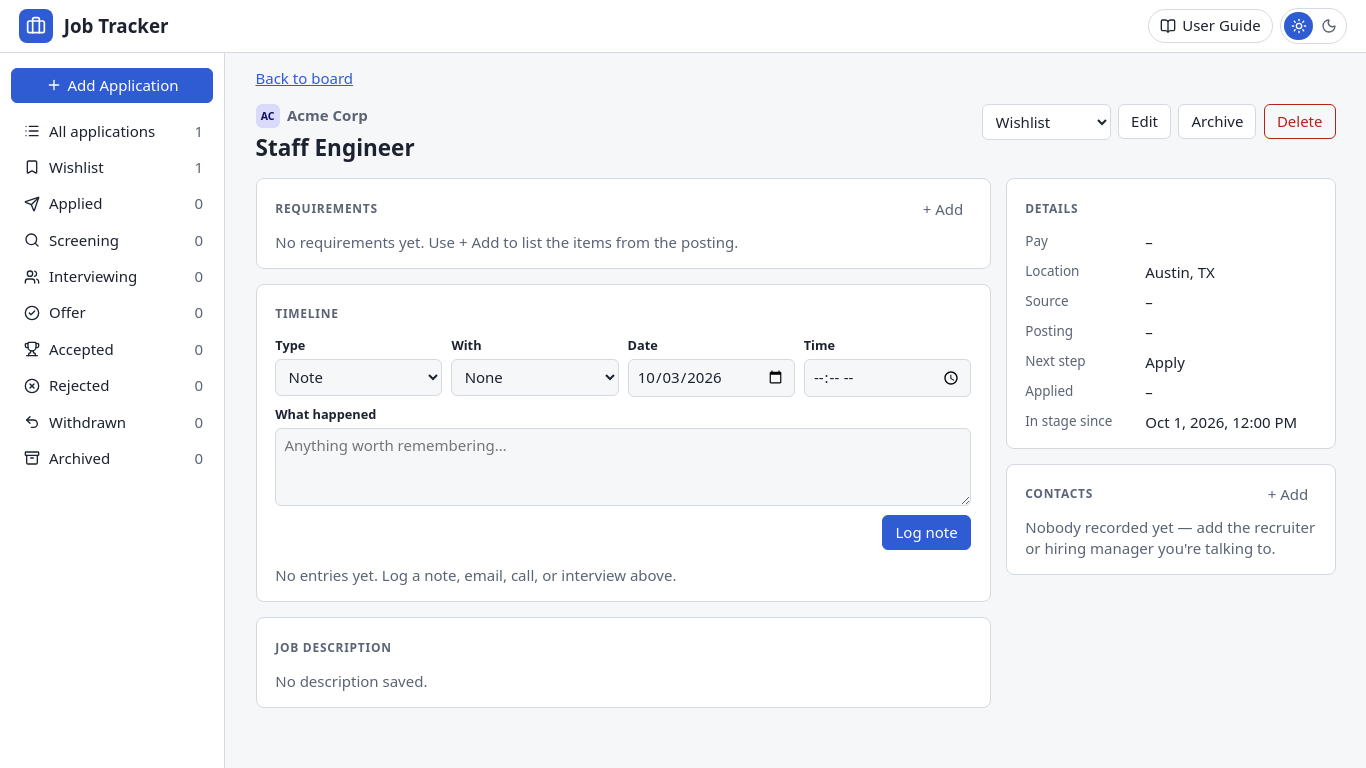
Test: changing the stage from the page (spec 013, AC-5) › puts the saved stage back and says so when saving fails
Select "Offer" in the dropdown named "Stage" at [1046, 122], box [982,104,1111,140]
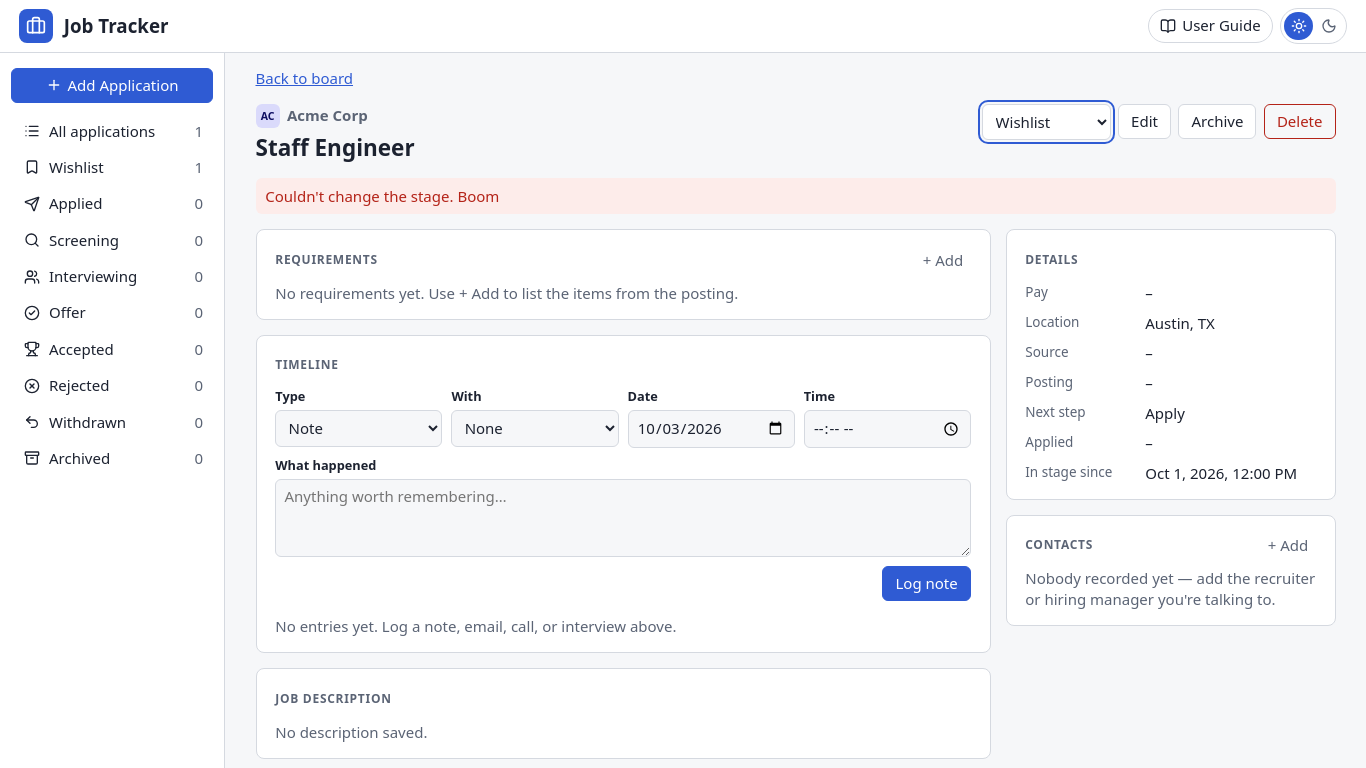
Now the message reads "Couldn't change the stage. Boom", box [265,186,499,206]
